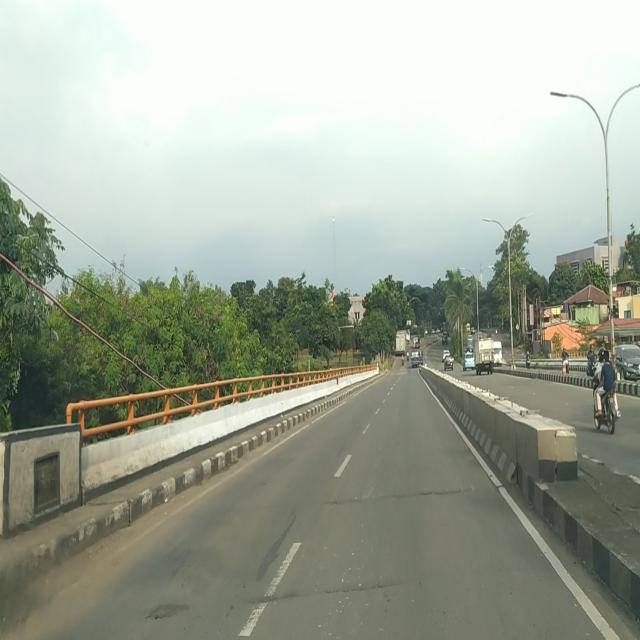Sewer Cover: (244, 580, 411, 610), (318, 483, 498, 510), (141, 599, 195, 619)
